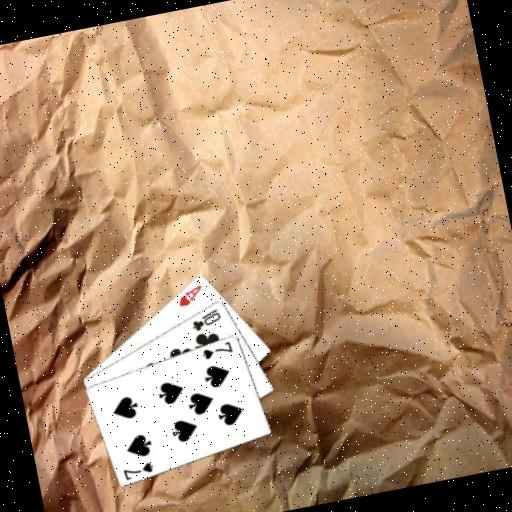10C: (186, 306, 224, 334)
7S: (119, 458, 157, 483), (198, 338, 236, 362)
AH: (172, 281, 206, 309)
